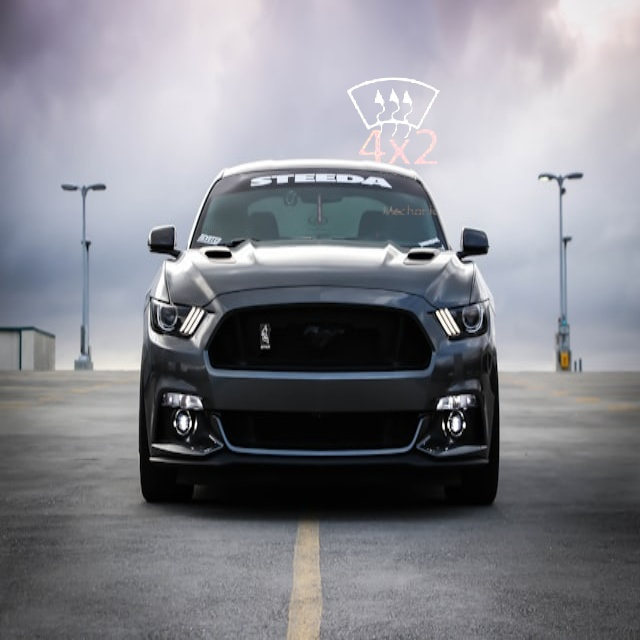symbol: (318, 33, 471, 186), (324, 74, 473, 223)
